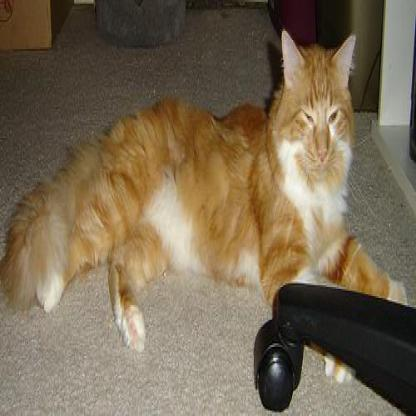cat: (3, 29, 406, 385)
